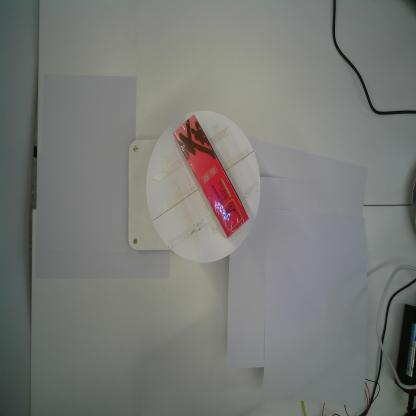Instant Drink: (173, 113, 249, 240)
